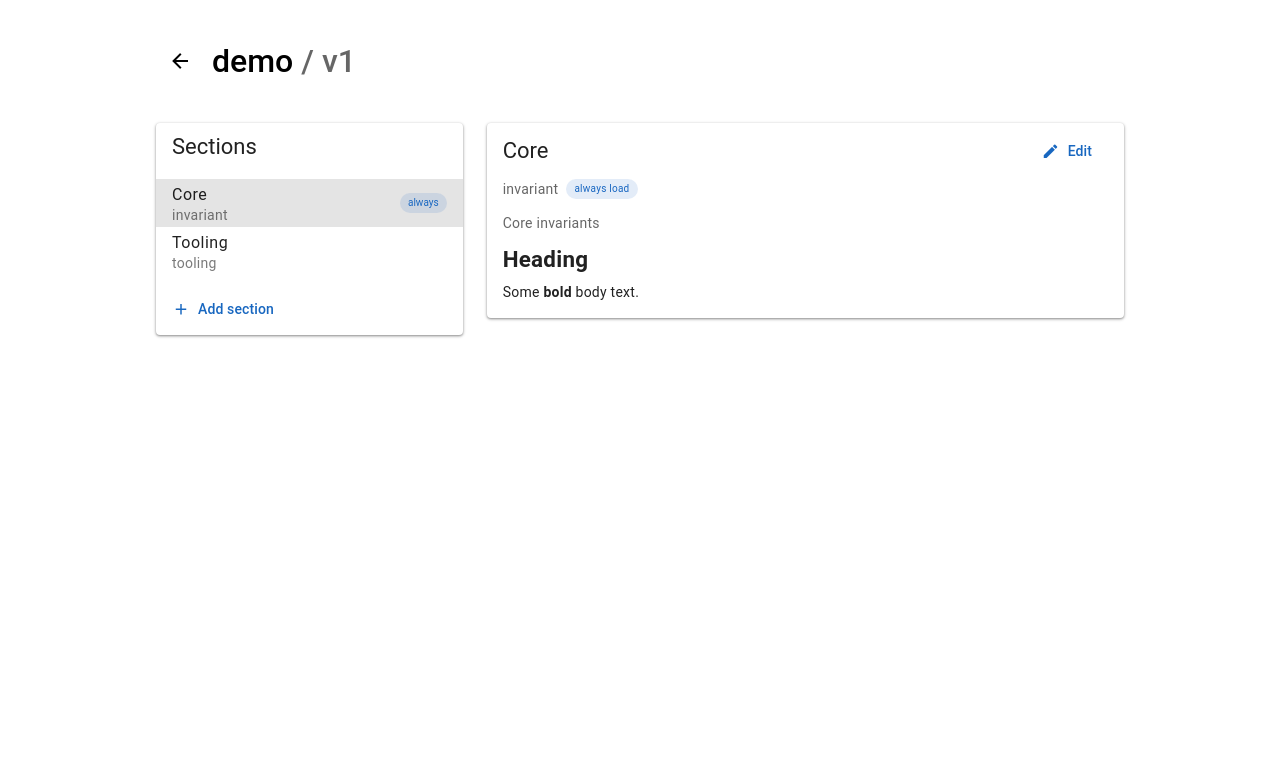
Scenario: KitEditorView › shows a rendered read view first, revealing the form only after Edit
Expected: the heading "Heading" is shown, [503,246,588,272]
Click the button "Edit" at (1069, 151), box [1030,133,1108,169]
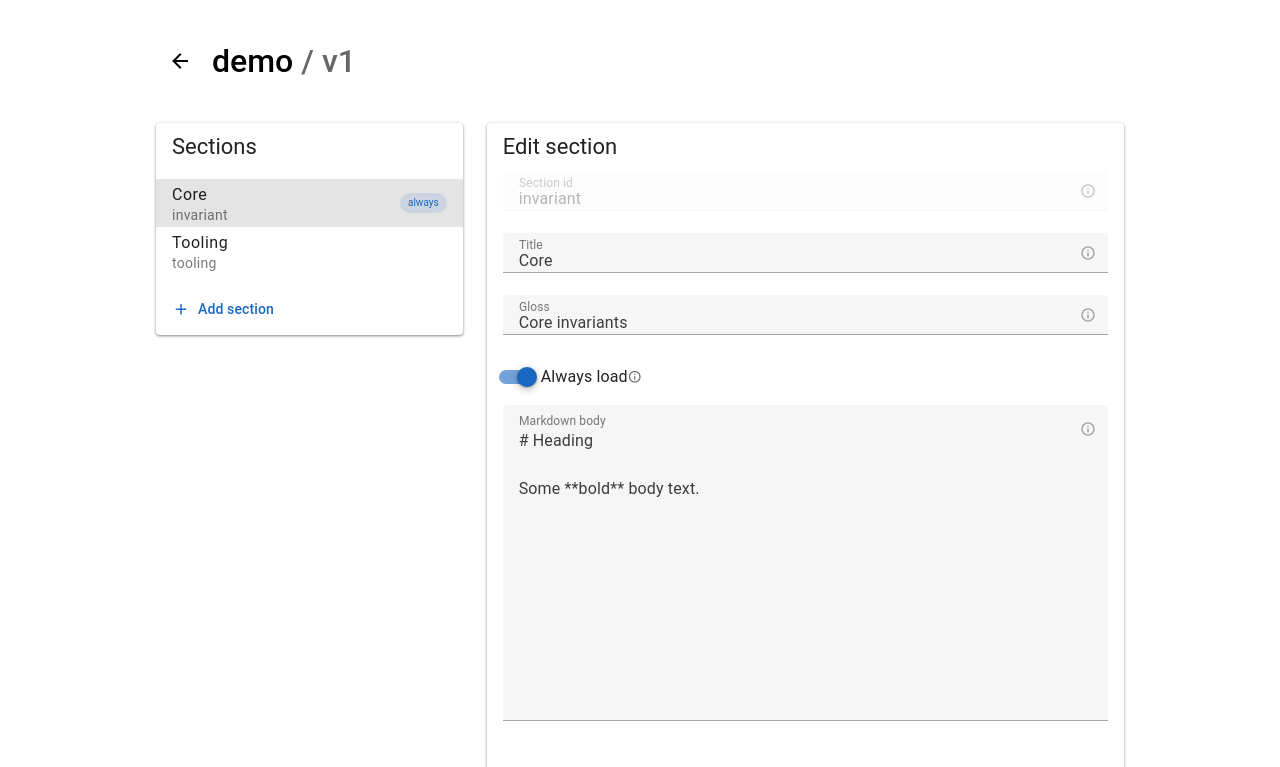
Now the text box labelled "Markdown body" is shown, box [503,405,1080,721]
